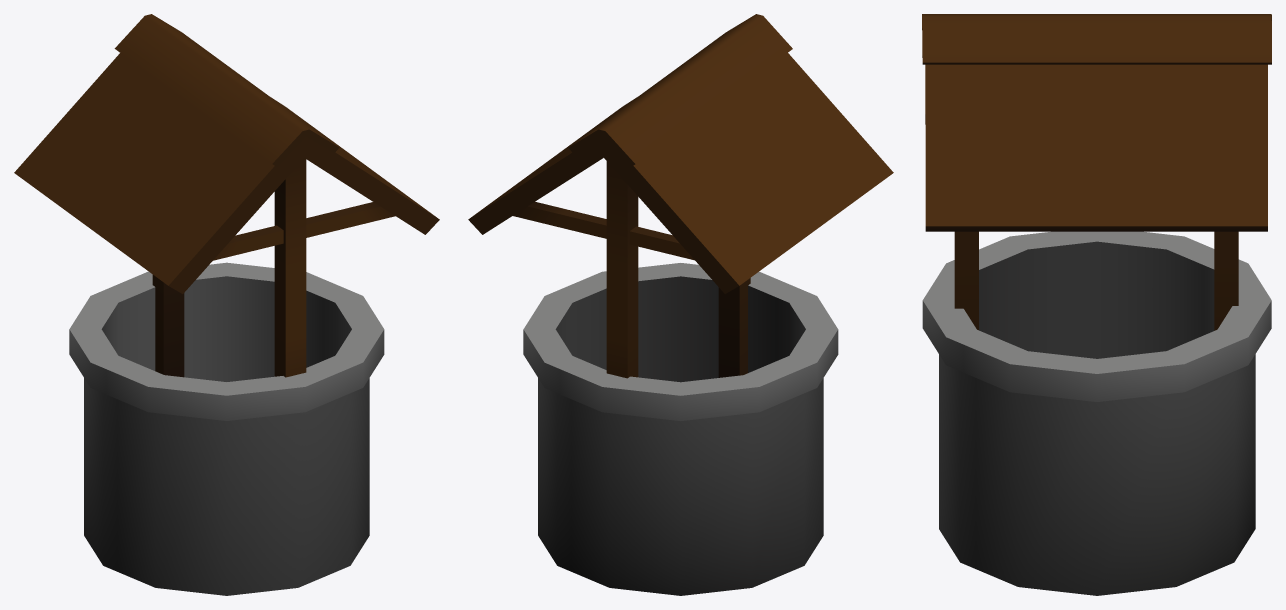
File: Well_Empty.fbx
3 views of the same model, side by side, from view 1: azimuth 30°, elevation 25°; view 2: azimuth 150°, elevation 25°; view 3: azimuth 270°, elevation 25° (orthographic). The views are drawn at different scales.
Parts seen in each view (by area): view 1: Well_Empty; view 2: Well_Empty; view 3: Well_Empty.
Part boxes in pixels (bbox=[...]): Well_Empty: bbox=[14, 14, 439, 595]; Well_Empty: bbox=[468, 14, 893, 595]; Well_Empty: bbox=[922, 14, 1271, 595].
Bounding box in the file's own units: 155 × 251 × 155.
